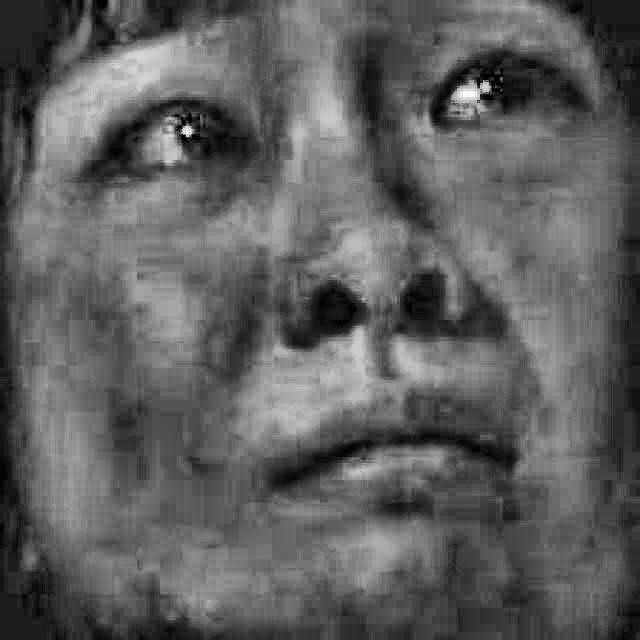fear: (65, 34, 586, 606)
